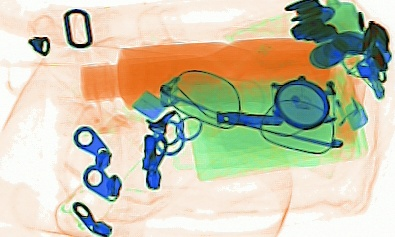lighter: (318, 52, 366, 126)
